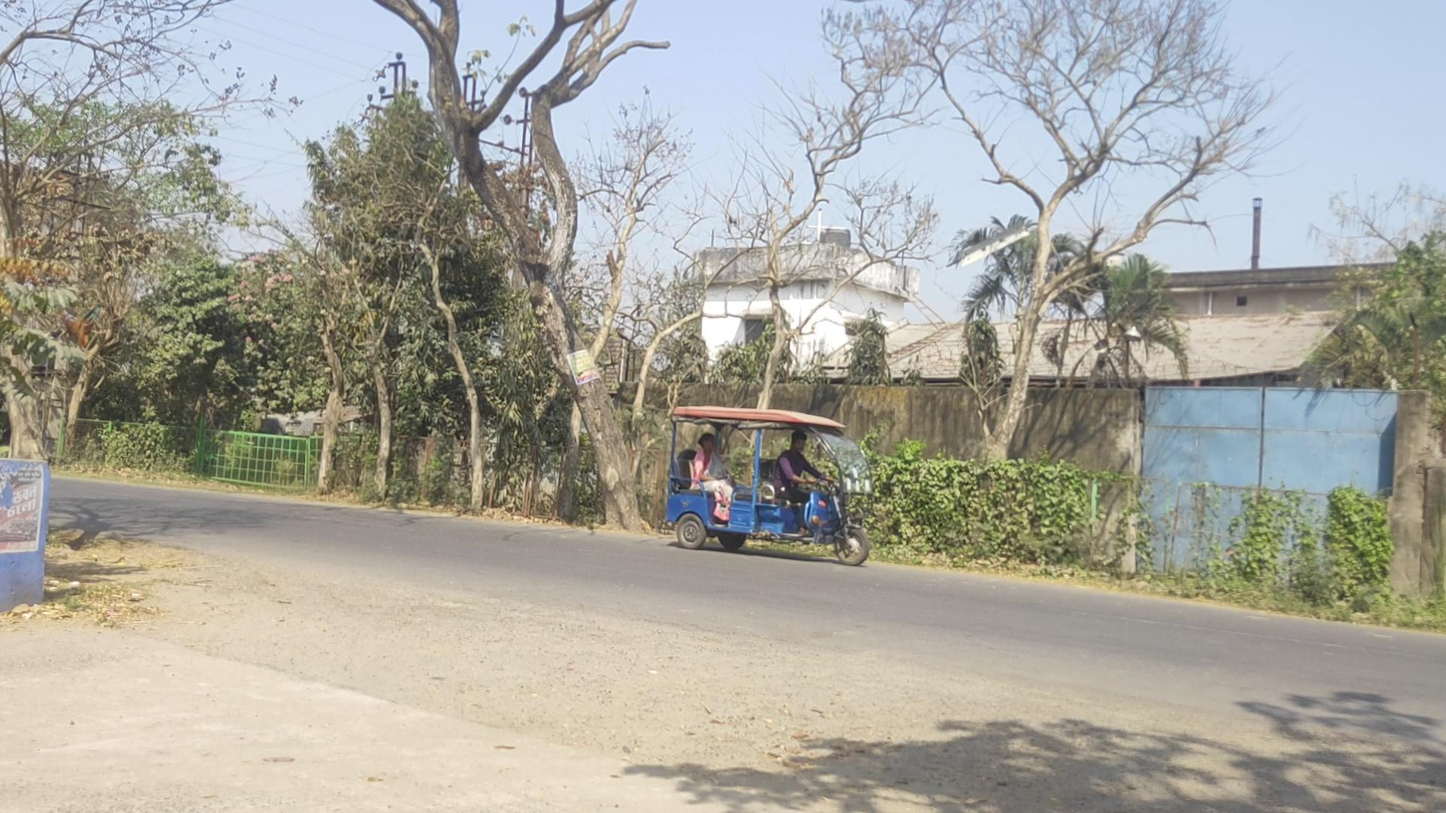Auto: (666, 405, 872, 566)
